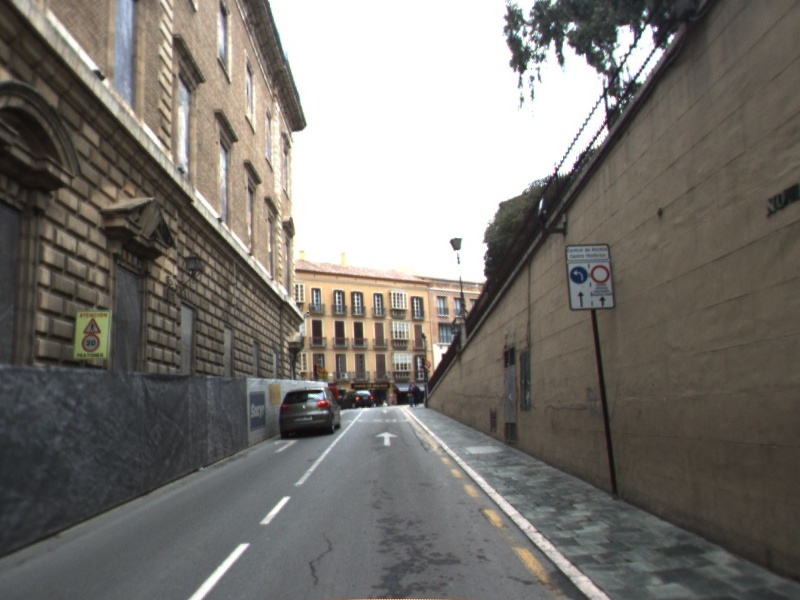LEFT: (272, 436, 301, 455)
STRAIGHT: (373, 429, 400, 448)
